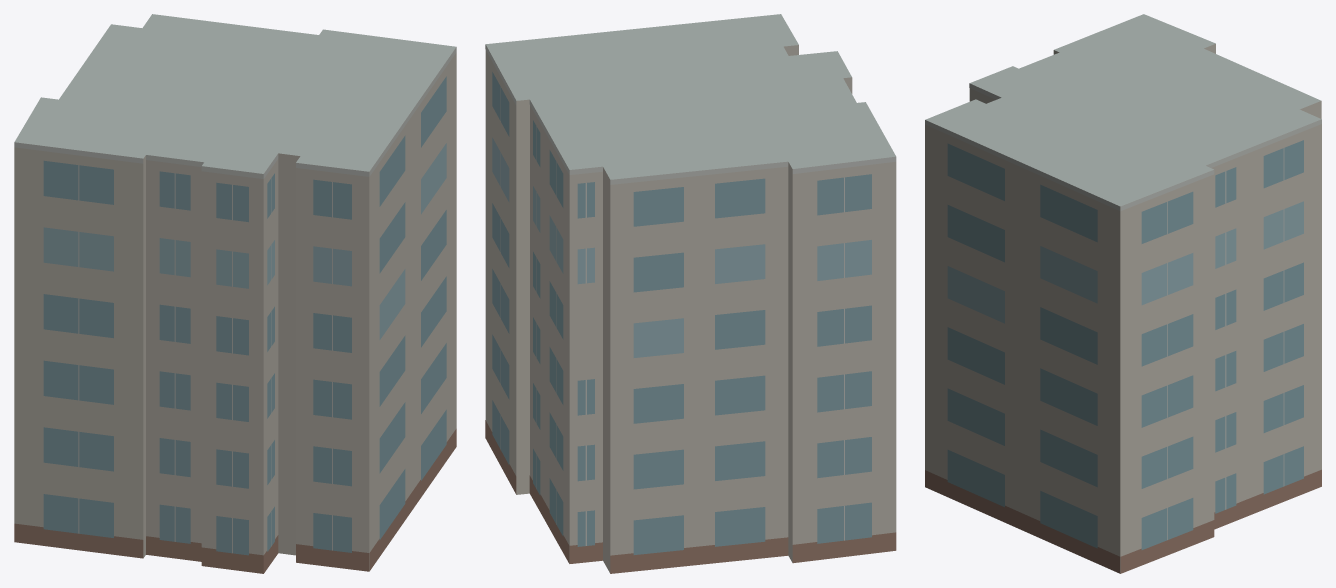
Rendered from survey-upis-32563182.glb.
The picture shows the model from 3 angles, left to right: view 1: azimuth 30°, elevation 25°; view 2: azimuth 150°, elevation 25°; view 3: azimuth 270°, elevation 25°; orthographic projection. The views are drawn at different scales.
Parts seen in each view (by area): view 1: survey-upis-32563182.tmp; view 2: survey-upis-32563182.tmp; view 3: survey-upis-32563182.tmp.
Part boxes in pixels (x1=…): survey-upis-32563182.tmp: x1=14, y1=14, x2=456, y2=573; survey-upis-32563182.tmp: x1=485, y1=14, x2=896, y2=573; survey-upis-32563182.tmp: x1=925, y1=14, x2=1321, y2=573.
Bounding box in the file's own units: 21.37 × 19 × 18.61.
